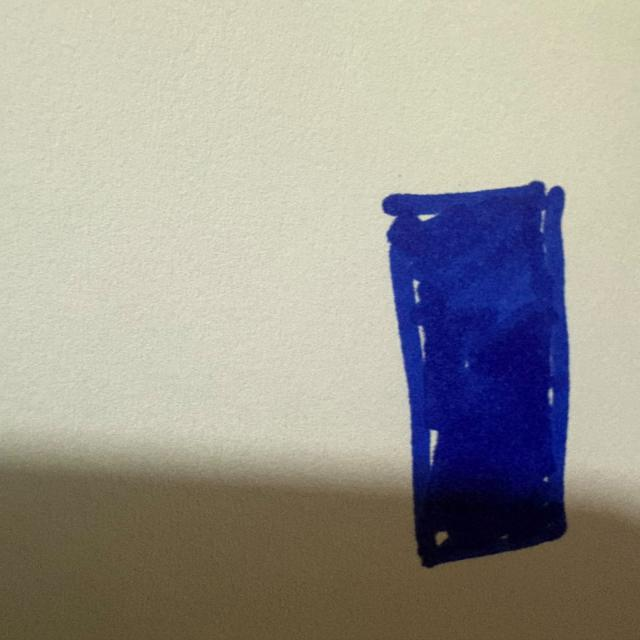Rectangle: (375, 175, 588, 576)
